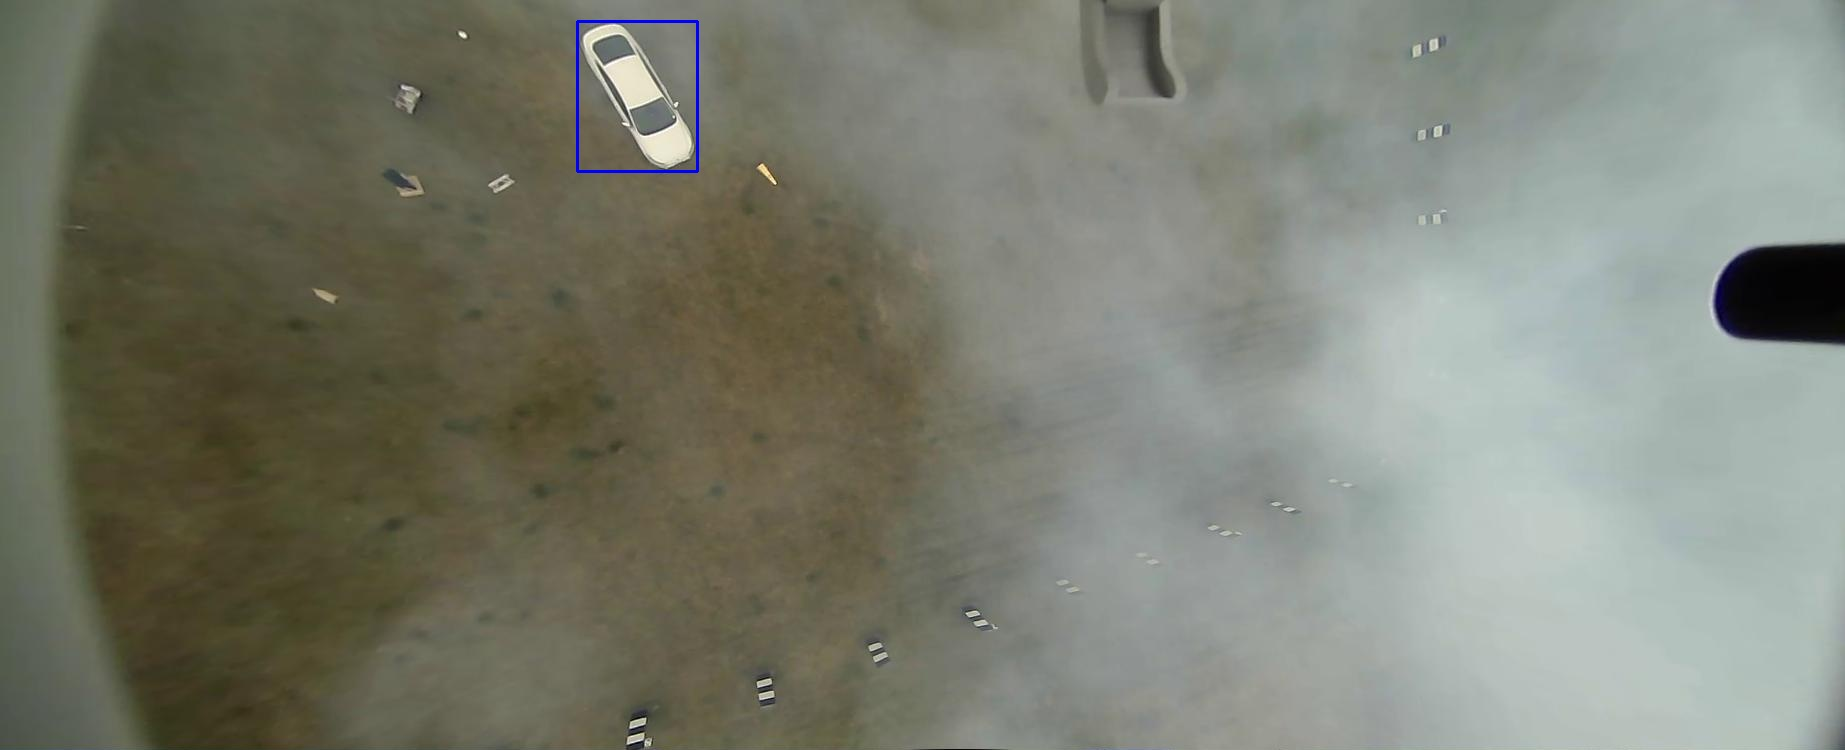vehicle: (21, 577, 171, 697)
